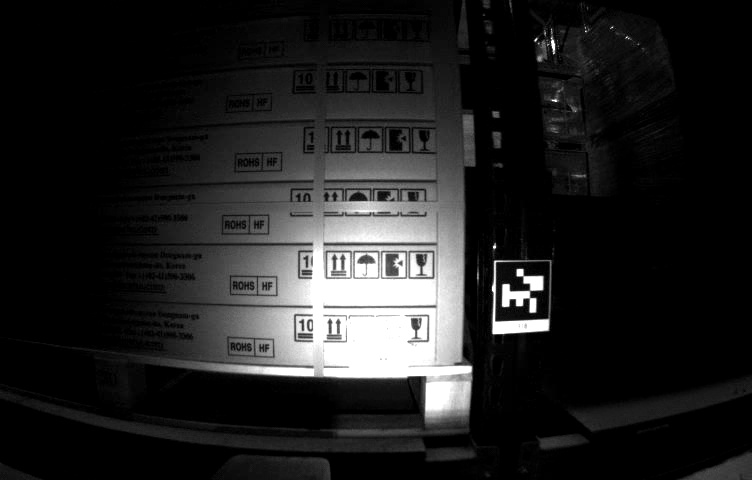True Barcode: (345, 315, 407, 380)
